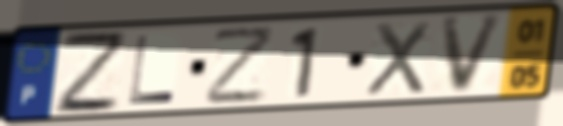1: (286, 25, 325, 100)
L: (126, 33, 179, 107)
V: (438, 11, 509, 98)
X: (361, 18, 433, 99)
Z: (204, 23, 280, 108), (53, 30, 127, 117)
